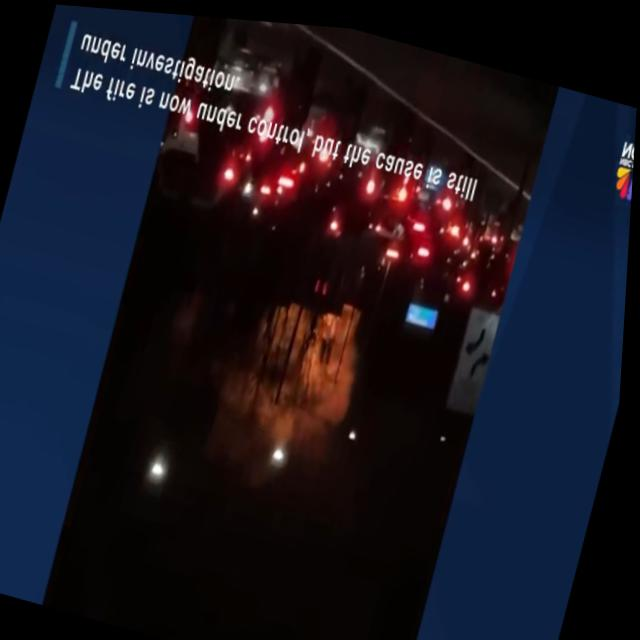Fire: (249, 291, 375, 446)
